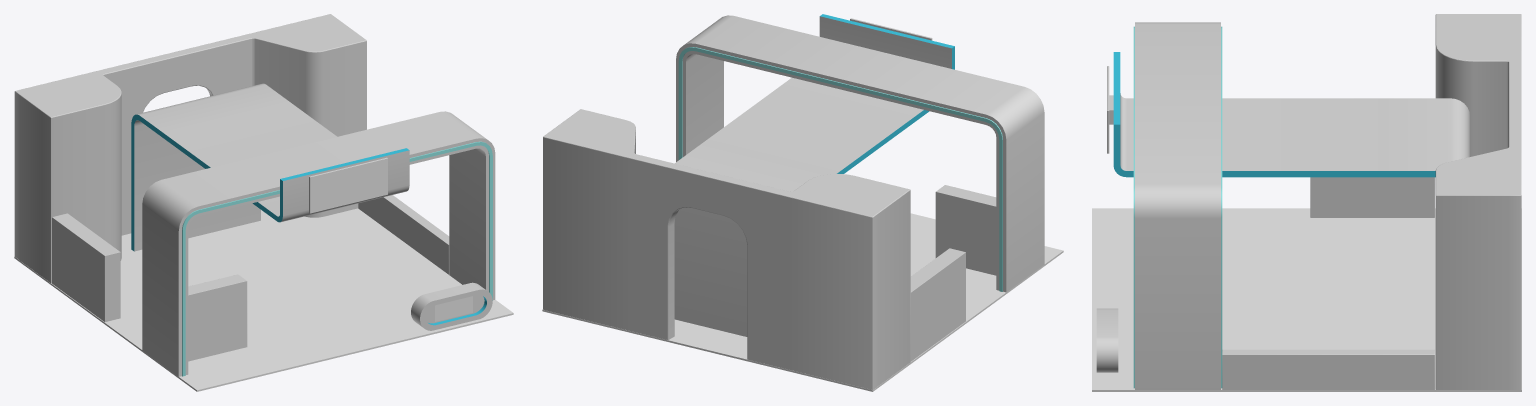
Rendered from Stand_6.fbx.
3 renders of one model, left to right at view 1: azimuth 30°, elevation 25°; view 2: azimuth 150°, elevation 25°; view 3: azimuth 270°, elevation 25°, orthographic. The views are drawn at different scales.
Visible parts, largest first — view 1: Stand_6, Stand_6_Table_3, Stand_6_Table_2, Stand_6_Logo, Stand_6_Table_1; view 2: Stand_6, Stand_6_Table_3, Stand_6_Table_2; view 3: Stand_6, Stand_6_Table_3, Stand_6_Table_1.
Boxes of the visible parts, <box> form: Stand_6: <box>14,14,513,391</box>; Stand_6_Table_3: <box>52,213,120,321</box>; Stand_6_Table_2: <box>188,274,247,361</box>; Stand_6_Logo: <box>310,158,472,321</box>; Stand_6_Table_1: <box>411,282,492,330</box>; Stand_6: <box>542,14,1063,391</box>; Stand_6_Table_3: <box>910,248,965,361</box>; Stand_6_Table_2: <box>935,185,996,275</box>; Stand_6: <box>1092,14,1521,391</box>; Stand_6_Table_3: <box>1310,177,1434,217</box>; Stand_6_Table_1: <box>1096,308,1118,372</box>.
Size of the model in its own units: 1000 by 546 by 1000.
